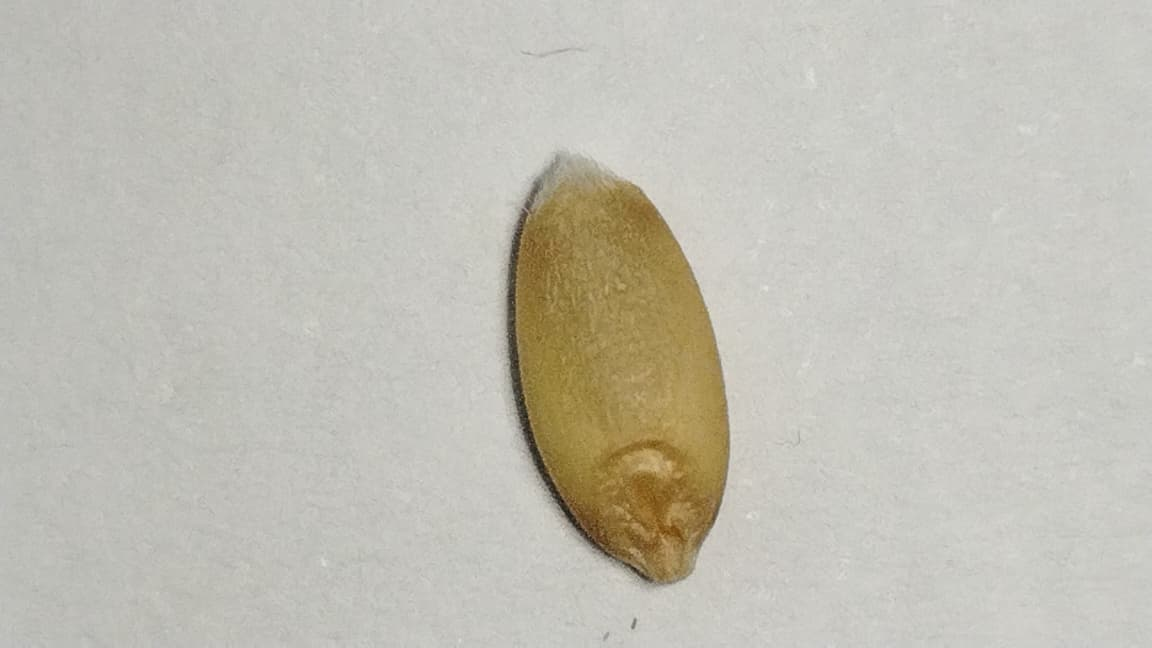healthy: (515, 153, 727, 578)
